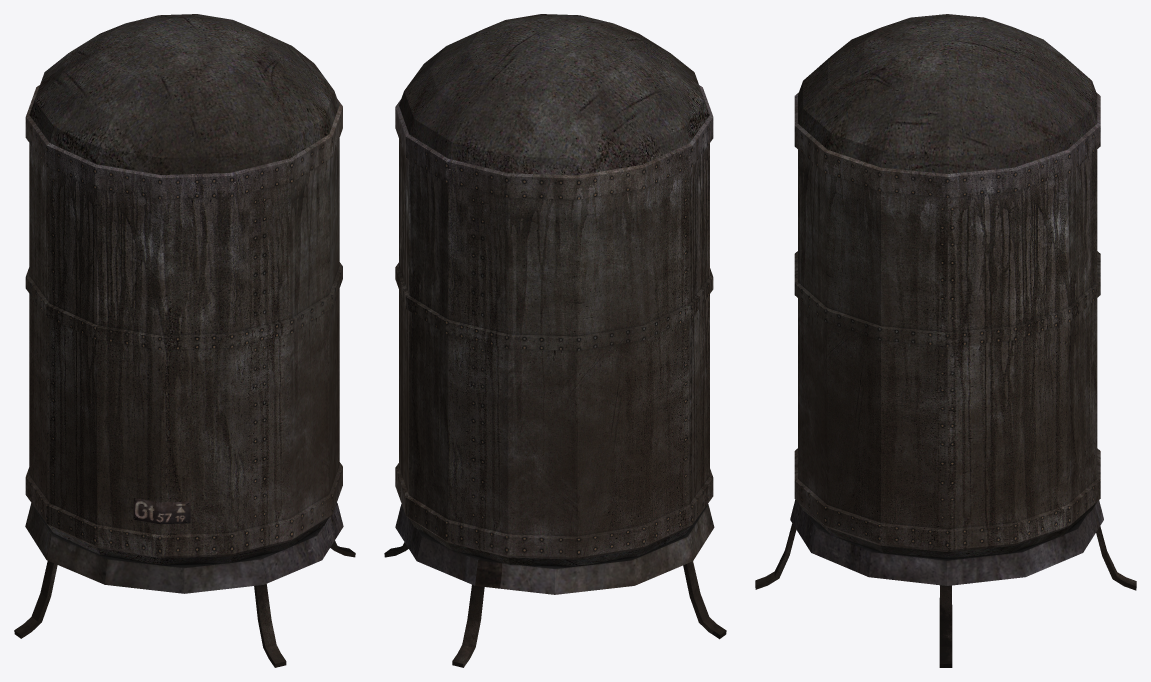
The model's file is Environmet_1.fbx.
3 renders of one model, left to right at view 1: azimuth 30°, elevation 25°; view 2: azimuth 150°, elevation 25°; view 3: azimuth 270°, elevation 25°, orthographic.
Visible parts, largest first — view 1: Environmet_1; view 2: Environmet_1; view 3: Environmet_1.
Boxes of the visible parts, x1,y1,x2,y2 form: Environmet_1: (14, 14, 355, 667); Environmet_1: (384, 14, 726, 667); Environmet_1: (755, 14, 1136, 667).
Size of the model in its own units: 2.79 by 4.48 by 2.79.
Materials: 1 (1 with a texture image).
